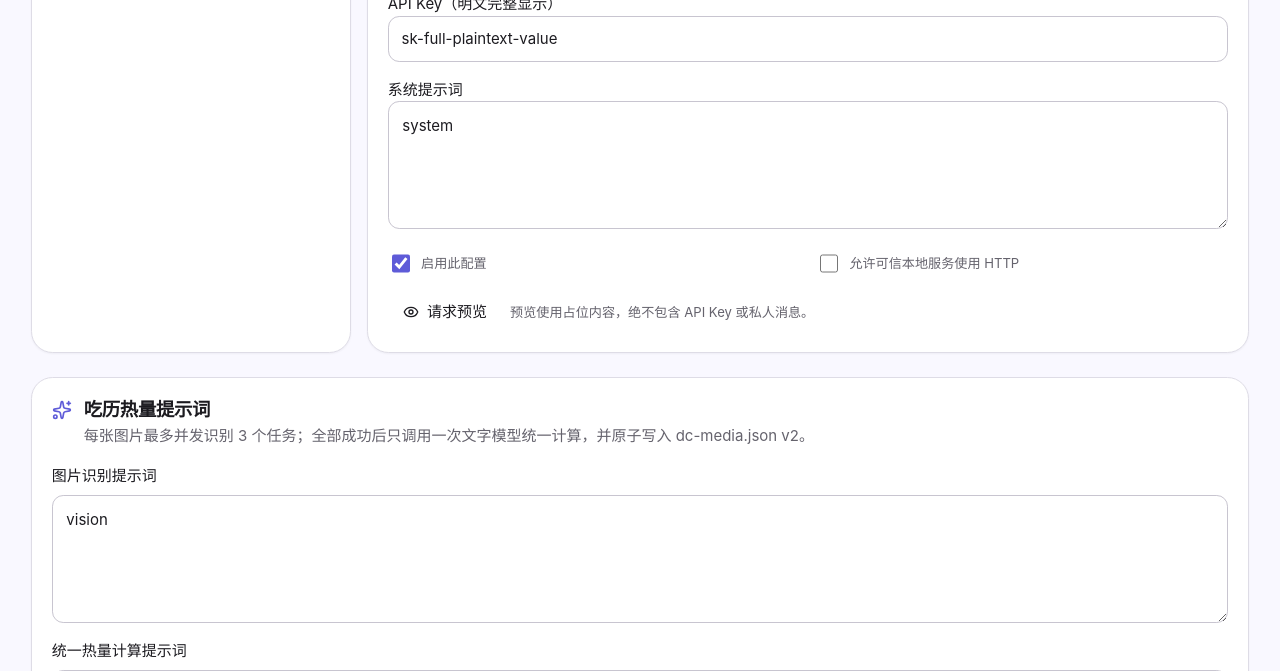
it: AiSettingsPage › shows the full plaintext key while redacting it from request preview
The image size is (1280, 671).
(page scrolled)
Expected: the field labelled "API Key（明文完整显示）" holds "sk-full-plaintext-value", top-left (388, 16), bottom-right (1228, 62)
Click the button "请求预览" at [445, 312], box top-left (388, 292), bottom-right (502, 332)
(page scrolled)
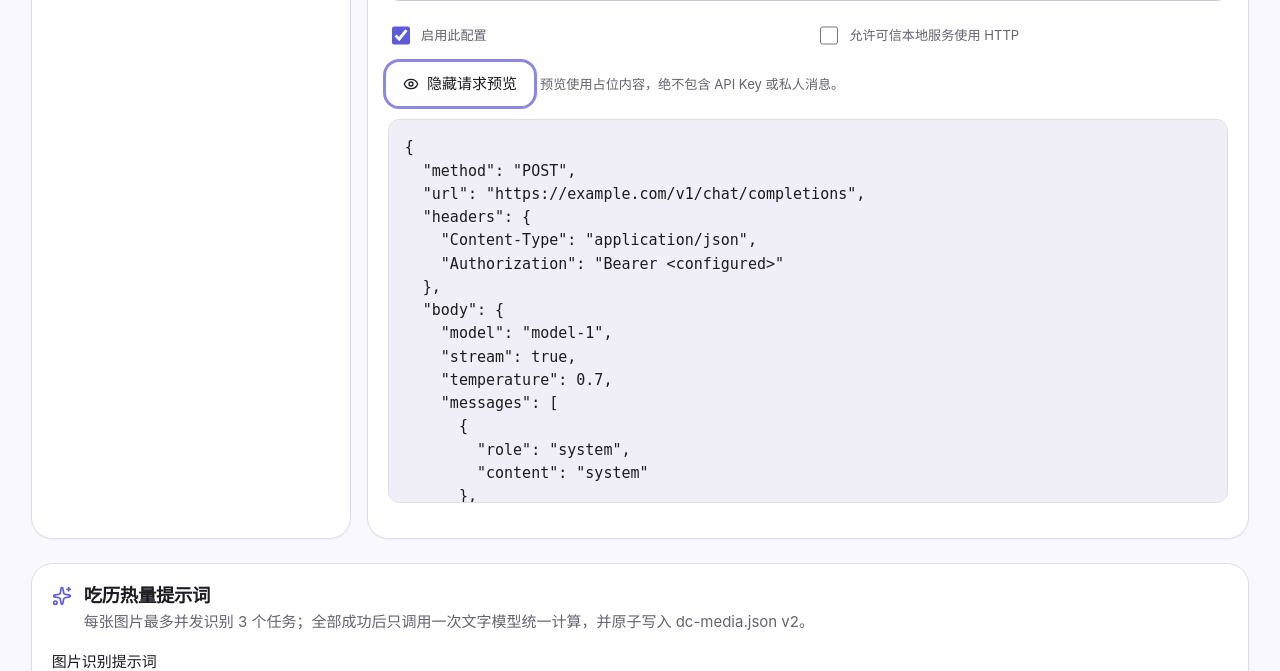
Expected: the text with class "ai-request-preview" does not show "sk-full-plaintext-value", top-left (388, 119), bottom-right (1228, 503)
Now the text with class "ai-request-preview" shows "Bearer <configured>", box top-left (405, 138), bottom-right (947, 668)
